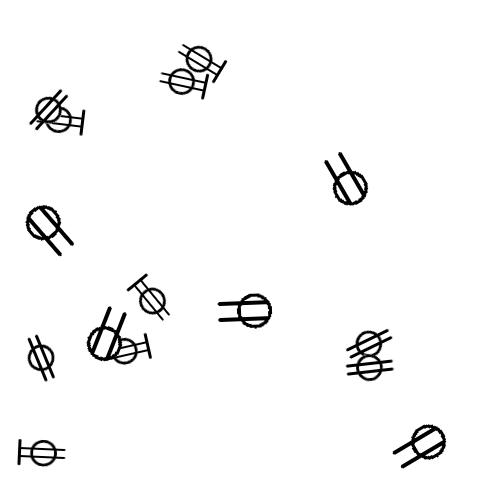Duplex-Receptacle: (317, 163, 376, 199), (19, 211, 78, 247), (217, 293, 276, 329), (78, 318, 137, 354), (392, 428, 451, 464), (174, 44, 226, 77), (100, 335, 152, 368), (34, 104, 86, 137), (16, 436, 68, 469), (126, 283, 178, 316), (157, 66, 209, 99), (22, 93, 75, 124), (343, 327, 396, 358), (344, 351, 397, 382), (16, 343, 69, 374)
